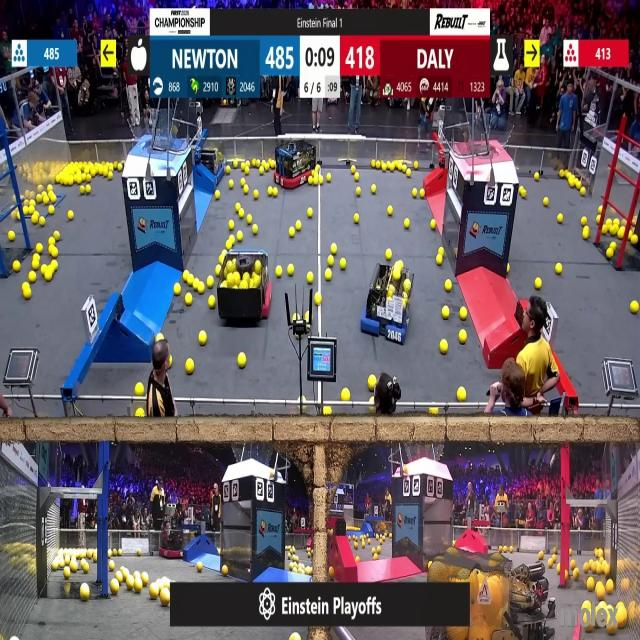ball_ground: (617, 610, 628, 630), (161, 591, 171, 607), (596, 585, 606, 600), (80, 586, 89, 602), (23, 284, 32, 299), (606, 623, 616, 636), (457, 387, 466, 401), (110, 581, 119, 595), (200, 332, 208, 346), (185, 359, 193, 373), (238, 353, 246, 367), (367, 376, 375, 390), (149, 586, 157, 600), (136, 383, 144, 396), (459, 331, 467, 344), (605, 582, 613, 595), (342, 388, 350, 400), (630, 302, 638, 314), (443, 307, 451, 319), (32, 260, 40, 272), (141, 572, 149, 584), (442, 341, 449, 354), (588, 579, 595, 592), (556, 264, 563, 276), (315, 292, 322, 304), (534, 278, 541, 290), (29, 272, 36, 284), (460, 308, 467, 320), (209, 295, 216, 307), (127, 577, 134, 589), (603, 564, 610, 576), (185, 293, 192, 304), (276, 267, 283, 278), (12, 262, 19, 273), (446, 281, 453, 292), (324, 270, 331, 281), (619, 228, 626, 239), (135, 583, 142, 594), (568, 177, 575, 188), (208, 276, 214, 288), (584, 229, 590, 241), (136, 409, 144, 418), (198, 562, 204, 574), (82, 562, 88, 574), (174, 284, 181, 294), (227, 220, 234, 230), (606, 249, 613, 259), (36, 244, 43, 254), (435, 254, 442, 264), (49, 247, 56, 257), (323, 408, 330, 418), (44, 272, 51, 282), (199, 283, 206, 293), (238, 232, 245, 242), (108, 561, 115, 571), (43, 196, 50, 206), (75, 174, 82, 184), (304, 567, 311, 577), (116, 572, 123, 582), (308, 273, 314, 284), (386, 249, 392, 260), (287, 266, 293, 277), (252, 223, 258, 234), (330, 244, 336, 255), (221, 565, 227, 576), (327, 255, 333, 266), (341, 260, 347, 271), (215, 266, 221, 277), (50, 262, 56, 273), (182, 272, 188, 283), (64, 567, 70, 578), (632, 236, 638, 247), (584, 600, 591, 609), (308, 208, 314, 218), (68, 210, 74, 220), (289, 229, 295, 239), (246, 214, 252, 224), (403, 218, 409, 228), (32, 214, 38, 224), (252, 188, 258, 198), (49, 192, 55, 202), (40, 265, 46, 275), (192, 279, 198, 289), (33, 195, 39, 205), (610, 224, 616, 234), (430, 409, 437, 417), (328, 567, 333, 578), (8, 233, 14, 242), (225, 241, 231, 250), (308, 176, 314, 185), (55, 233, 61, 242), (218, 254, 224, 263), (558, 214, 564, 223), (579, 217, 585, 226), (87, 184, 93, 193), (244, 167, 250, 176), (572, 569, 578, 578), (252, 160, 258, 169), (114, 163, 120, 172), (68, 178, 74, 187), (354, 213, 359, 223), (269, 186, 274, 196), (585, 563, 590, 573), (81, 173, 86, 183), (413, 188, 419, 196), (214, 190, 220, 198), (534, 172, 540, 180), (609, 242, 615, 250), (354, 174, 360, 182), (579, 187, 585, 195), (538, 552, 544, 560), (318, 176, 324, 184), (155, 335, 161, 343), (414, 163, 420, 171), (87, 174, 93, 182), (556, 566, 562, 574), (119, 162, 125, 170), (588, 625, 594, 633), (314, 166, 320, 174), (387, 162, 393, 170), (450, 246, 456, 254), (388, 207, 393, 216), (370, 184, 375, 193), (295, 221, 300, 230), (39, 217, 44, 226), (79, 184, 84, 193), (602, 224, 607, 233), (108, 550, 113, 559), (401, 166, 406, 175), (596, 216, 602, 223), (24, 208, 30, 215), (599, 602, 606, 608), (598, 207, 604, 214), (420, 188, 425, 196), (48, 207, 53, 215), (543, 198, 547, 208), (430, 220, 435, 228), (356, 186, 360, 196), (244, 185, 249, 193), (241, 178, 246, 186), (239, 210, 244, 218), (570, 560, 575, 568), (408, 170, 413, 178), (351, 166, 356, 174), (169, 357, 173, 367), (370, 161, 375, 169), (108, 172, 113, 180), (584, 616, 589, 624), (564, 569, 569, 577), (274, 187, 278, 196), (615, 219, 621, 225), (48, 238, 53, 245), (326, 175, 331, 182), (440, 248, 445, 255), (547, 561, 552, 568), (47, 184, 52, 191), (228, 183, 232, 191), (237, 204, 241, 212), (225, 167, 229, 175), (306, 313, 310, 321), (522, 189, 526, 197), (292, 314, 296, 322), (553, 554, 557, 562), (240, 163, 244, 171), (120, 550, 124, 558), (371, 555, 376, 561), (366, 538, 371, 544), (259, 168, 263, 175), (378, 545, 382, 552), (235, 162, 239, 169), (217, 550, 221, 557), (560, 171, 564, 178), (371, 546, 375, 553), (568, 550, 572, 557), (506, 266, 509, 275), (356, 557, 360, 563), (138, 551, 142, 557), (362, 541, 365, 547)
goal: (461, 118, 516, 158), (129, 117, 186, 152)
robot_blue: (358, 264, 411, 344), (196, 139, 227, 183)
robot_red: (215, 245, 270, 322), (273, 139, 316, 191), (158, 527, 192, 557)
